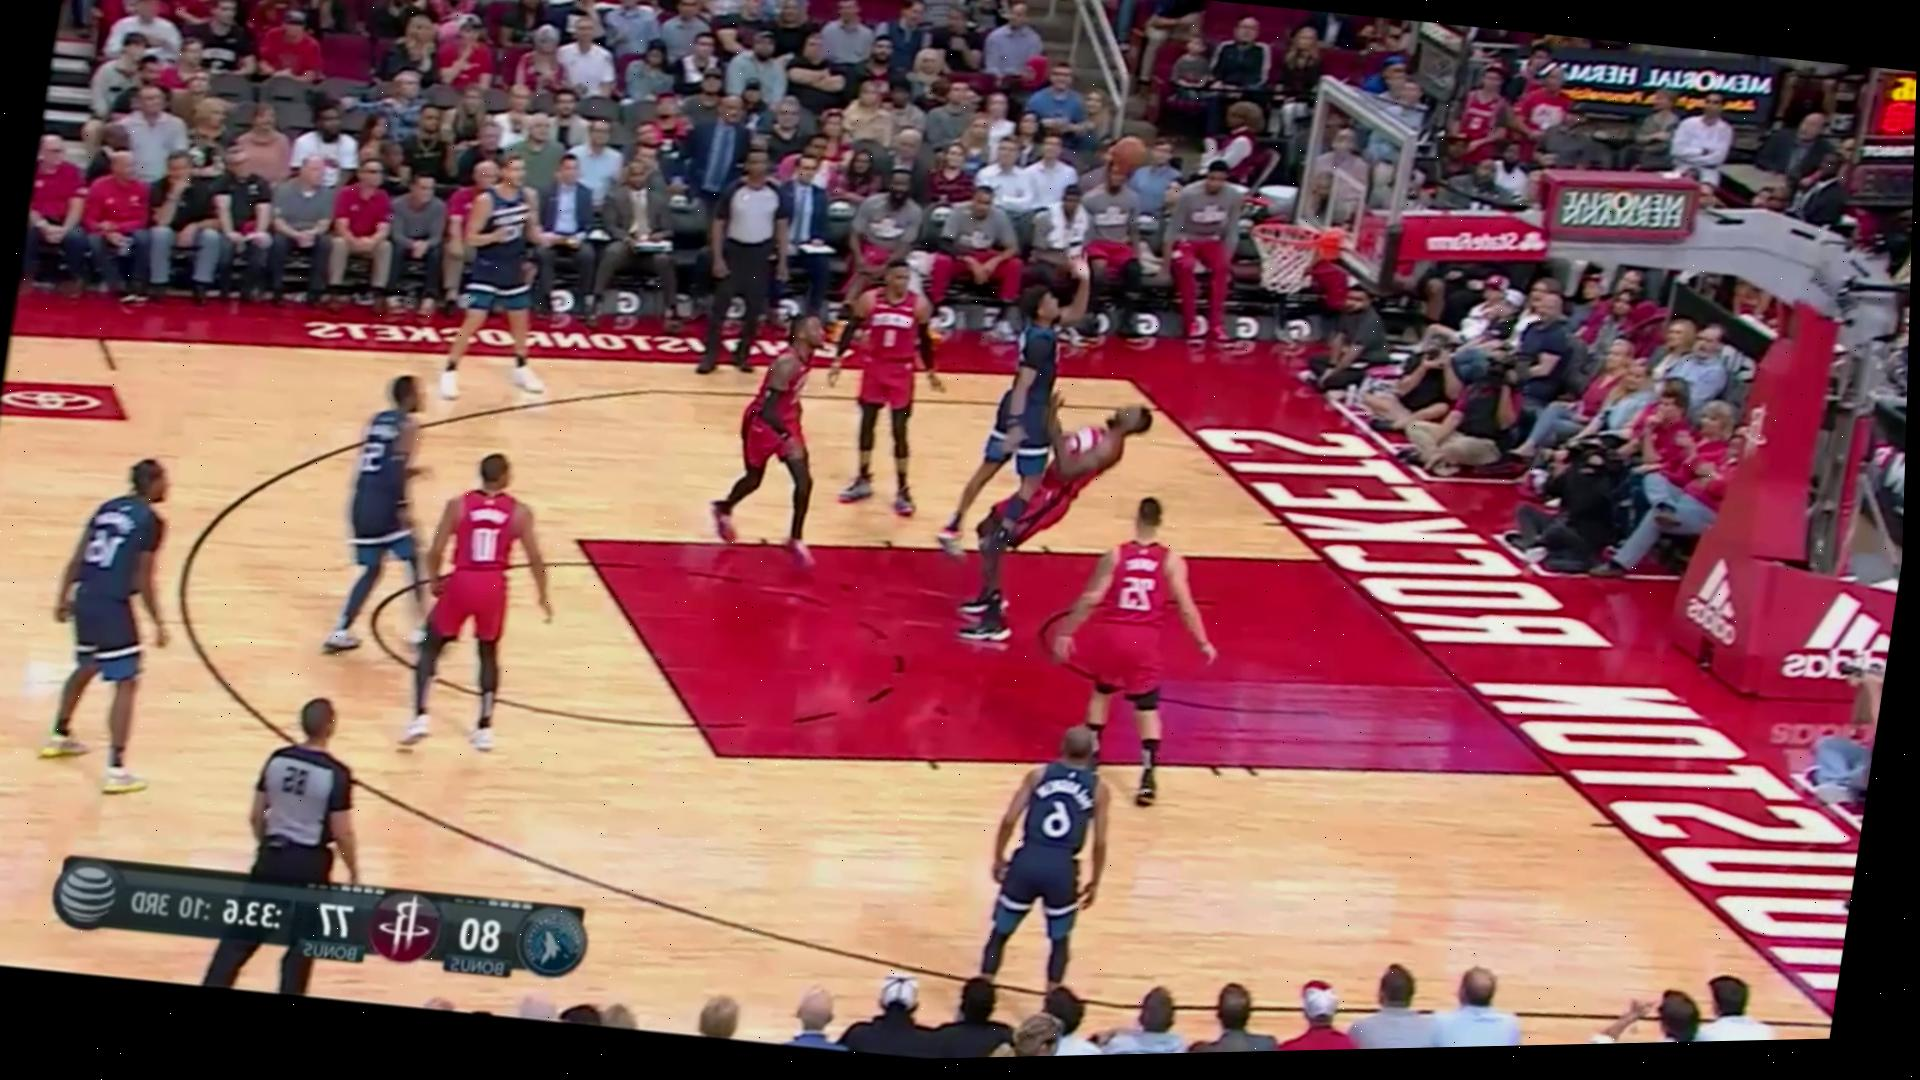foul: (932, 268, 1156, 655)
